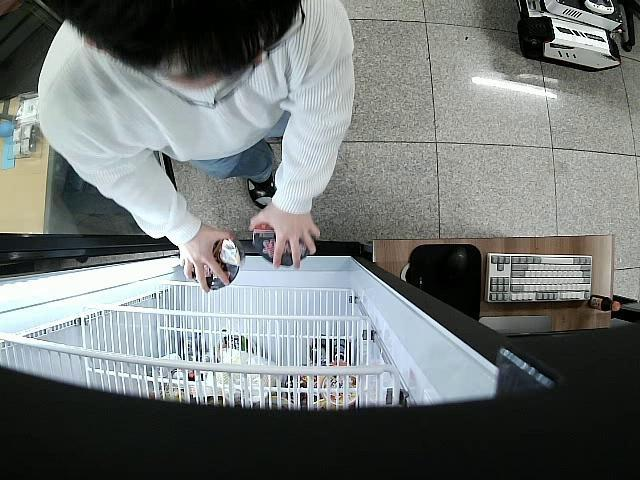07_buldak_L: (183, 235, 240, 292), (252, 224, 308, 264)
